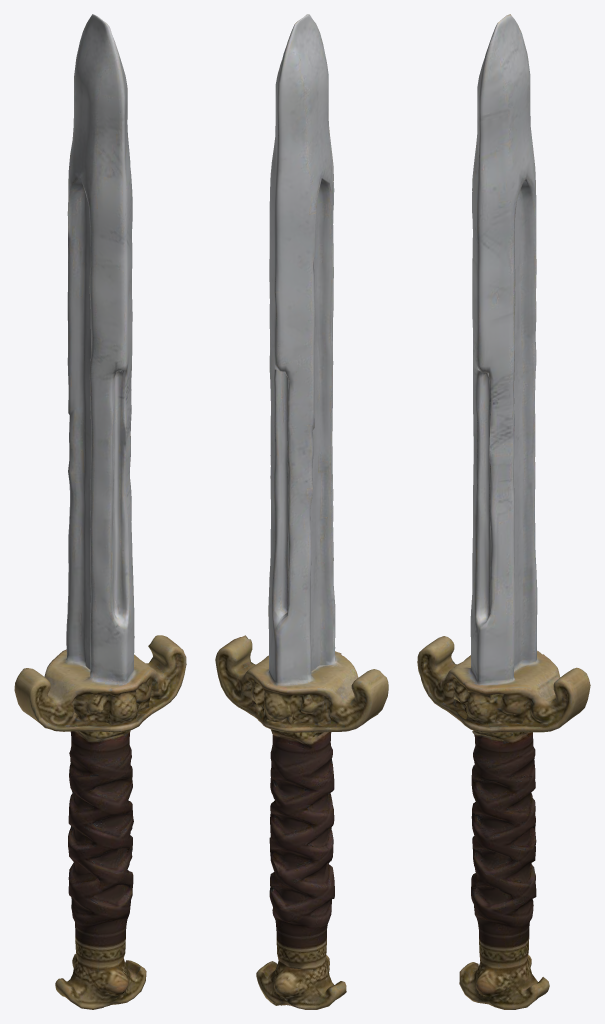
The model's file is onehand_sword.glb.
3 views of the same model, side by side, from view 1: azimuth 30°, elevation 25°; view 2: azimuth 150°, elevation 25°; view 3: azimuth 330°, elevation 25° (orthographic).
Parts seen in each view (by area): view 1: tripo_node_4e676260; view 2: tripo_node_4e676260; view 3: tripo_node_4e676260.
Part boxes in pixels (<box>): tripo_node_4e676260: <box>14,14,186,1009</box>; tripo_node_4e676260: <box>215,14,388,1009</box>; tripo_node_4e676260: <box>417,14,590,1009</box>.
Bounding box in the file's own units: 16.78 × 99.89 × 10.65.
1 material, 1 textured.
